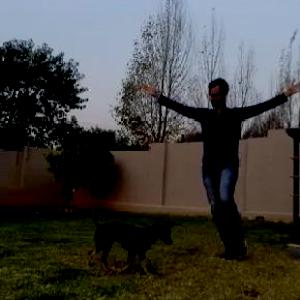takeoff: (143, 76, 299, 260)
